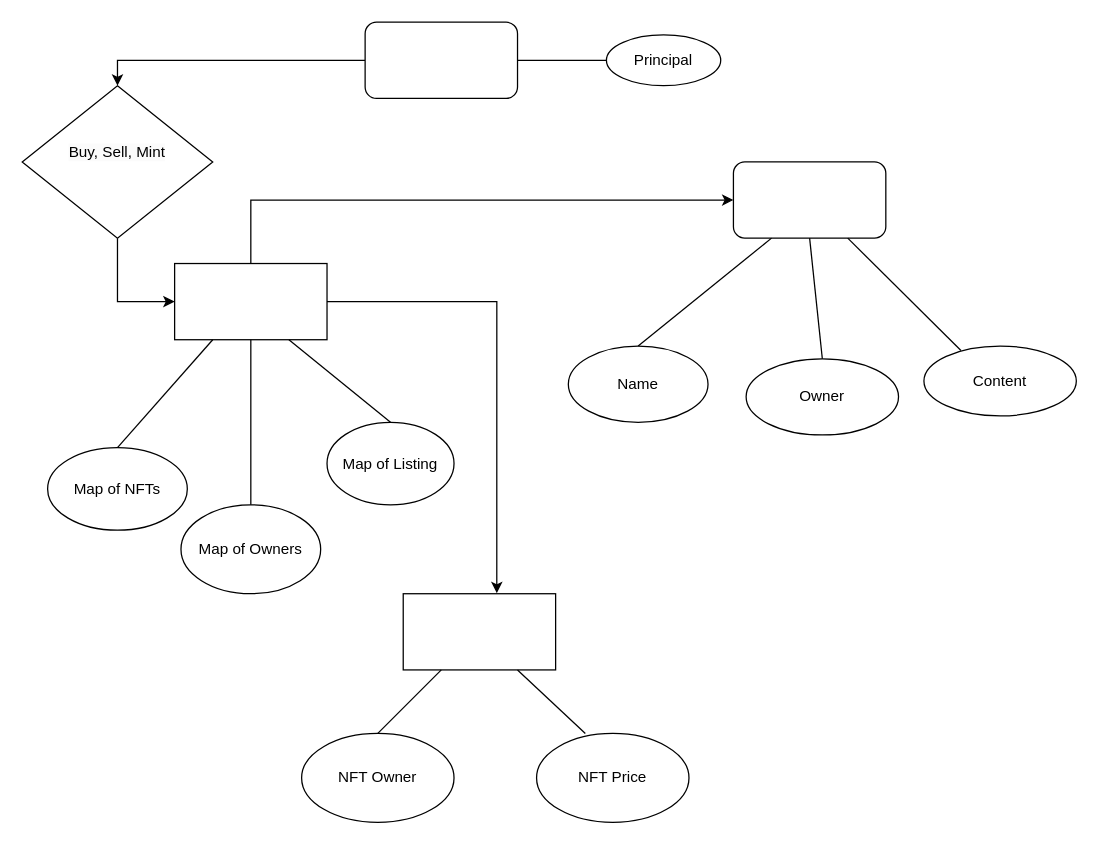
Image size: 1099x845. Some labels were removed from this diagram. Here are the shapes that lost their labels. From the top down, the box of each, then its label:
(364, 21, 518, 98): User
(732, 161, 886, 238): NFT
(173, 262, 327, 340): NFTForge
(402, 592, 556, 670): Listing
